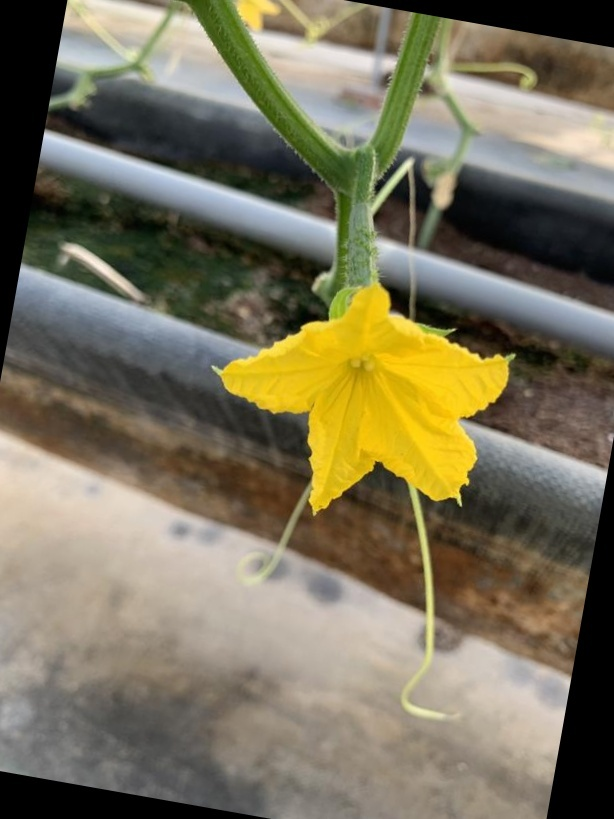flowering: (209, 180, 523, 525)
mature: (208, 177, 521, 529)
